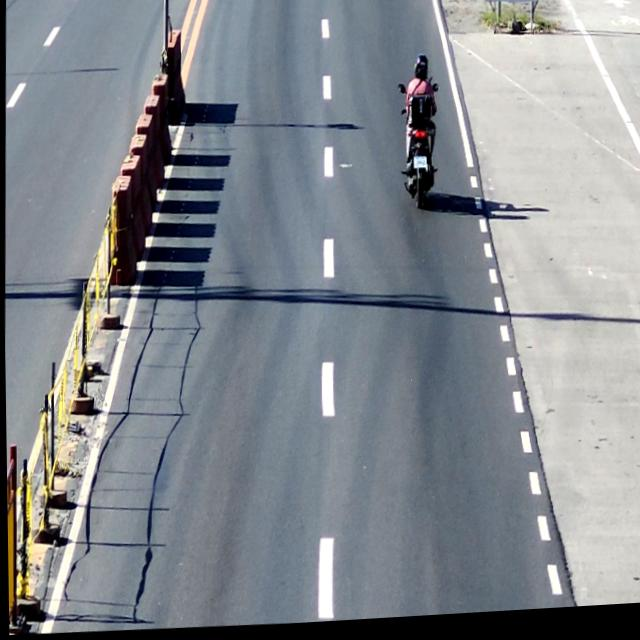License-Plate: (411, 160, 428, 176)
Motorcycle: (400, 83, 444, 218)
